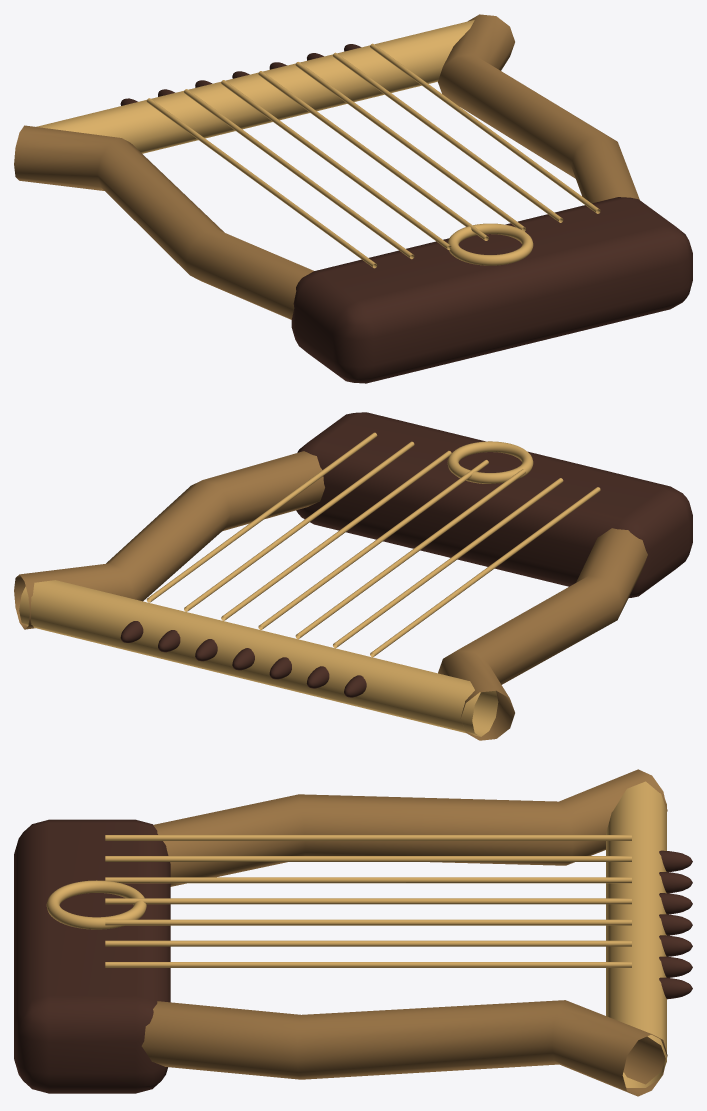
The model's file is silver-lyre-v1.glb.
3 views of the same model, one above another, from view 1: azimuth 30°, elevation 25°; view 2: azimuth 150°, elevation 25°; view 3: azimuth 270°, elevation 25° (orthographic). The views are drawn at different scales.
Visible parts, largest first — view 1: LyreSoundbox, LyreHorn, LyreCrossbar, LyreHorn.001, SoundHole, LyreString.001, LyreString.006, LyreString, LyreString.005, LyreString.002, LyreString.004, LyreString.003; view 2: LyreSoundbox, LyreCrossbar, LyreHorn.001, LyreHorn, SoundHole, LyreString.005, LyreString.006, LyreString, LyreString.001, LyreString.002, LyreString.004, LyreString.003; view 3: LyreSoundbox, LyreHorn.001, LyreHorn, LyreCrossbar, LyreString.004, LyreString.005, LyreString.002, LyreString.003, LyreString, LyreString.001, LyreString.006, SoundHole (+7 smaller).
Part boxes in pixels (bbox=[...]): LyreSoundbox: bbox=[291, 197, 692, 383]; LyreHorn: bbox=[14, 125, 313, 319]; LyreCrossbar: bbox=[36, 20, 474, 153]; LyreHorn.001: bbox=[438, 14, 639, 203]; SoundHole: bbox=[448, 223, 533, 265]; LyreString.001: bbox=[184, 89, 414, 259]; LyreString.006: bbox=[370, 43, 600, 213]; LyreString: bbox=[146, 98, 377, 268]; LyreString.005: bbox=[333, 52, 563, 222]; LyreString.002: bbox=[221, 80, 451, 249]; LyreString.004: bbox=[295, 62, 525, 231]; LyreString.003: bbox=[258, 71, 488, 240]; LyreSoundbox: bbox=[296, 412, 692, 597]; LyreCrossbar: bbox=[19, 580, 498, 736]; LyreHorn.001: bbox=[14, 451, 324, 629]; LyreHorn: bbox=[438, 528, 647, 740]; SoundHole: bbox=[447, 441, 533, 483]; LyreString.005: bbox=[184, 441, 414, 611]; LyreString.006: bbox=[146, 432, 377, 602]; LyreString: bbox=[370, 487, 600, 657]; LyreString.001: bbox=[333, 478, 563, 648]; LyreString.002: bbox=[295, 469, 525, 638]; LyreString.004: bbox=[221, 450, 451, 620]; LyreString.003: bbox=[258, 460, 488, 629]; LyreSoundbox: bbox=[14, 819, 170, 1093]; LyreHorn.001: bbox=[141, 1000, 667, 1096]; LyreHorn: bbox=[153, 769, 667, 886]; LyreCrossbar: bbox=[606, 781, 666, 1087]; LyreString.004: bbox=[105, 919, 631, 925]; LyreString.005: bbox=[105, 940, 631, 946]; LyreString.002: bbox=[105, 877, 631, 883]; LyreString.003: bbox=[105, 898, 631, 904]; LyreString: bbox=[105, 835, 631, 840]; LyreString.001: bbox=[105, 856, 631, 861]; LyreString.006: bbox=[105, 962, 631, 967]; SoundHole: bbox=[46, 880, 146, 929].
Size of the model in its own units: 1.55 by 0.2667 by 1.56.
